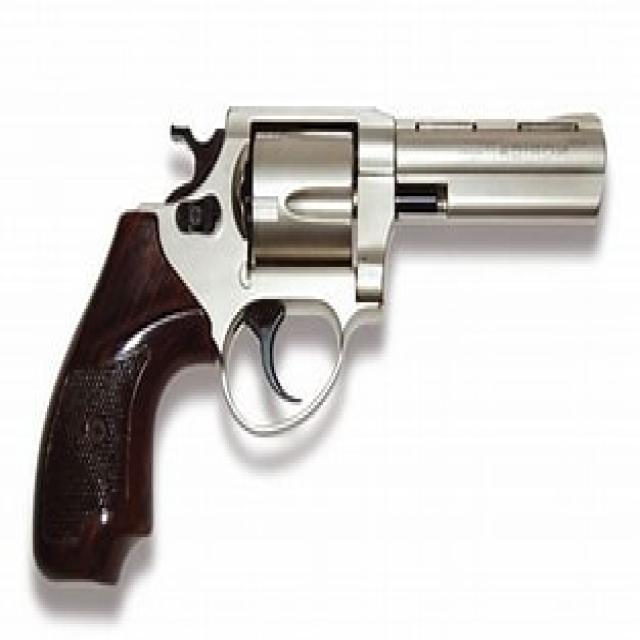Pistol: (22, 79, 625, 605)
